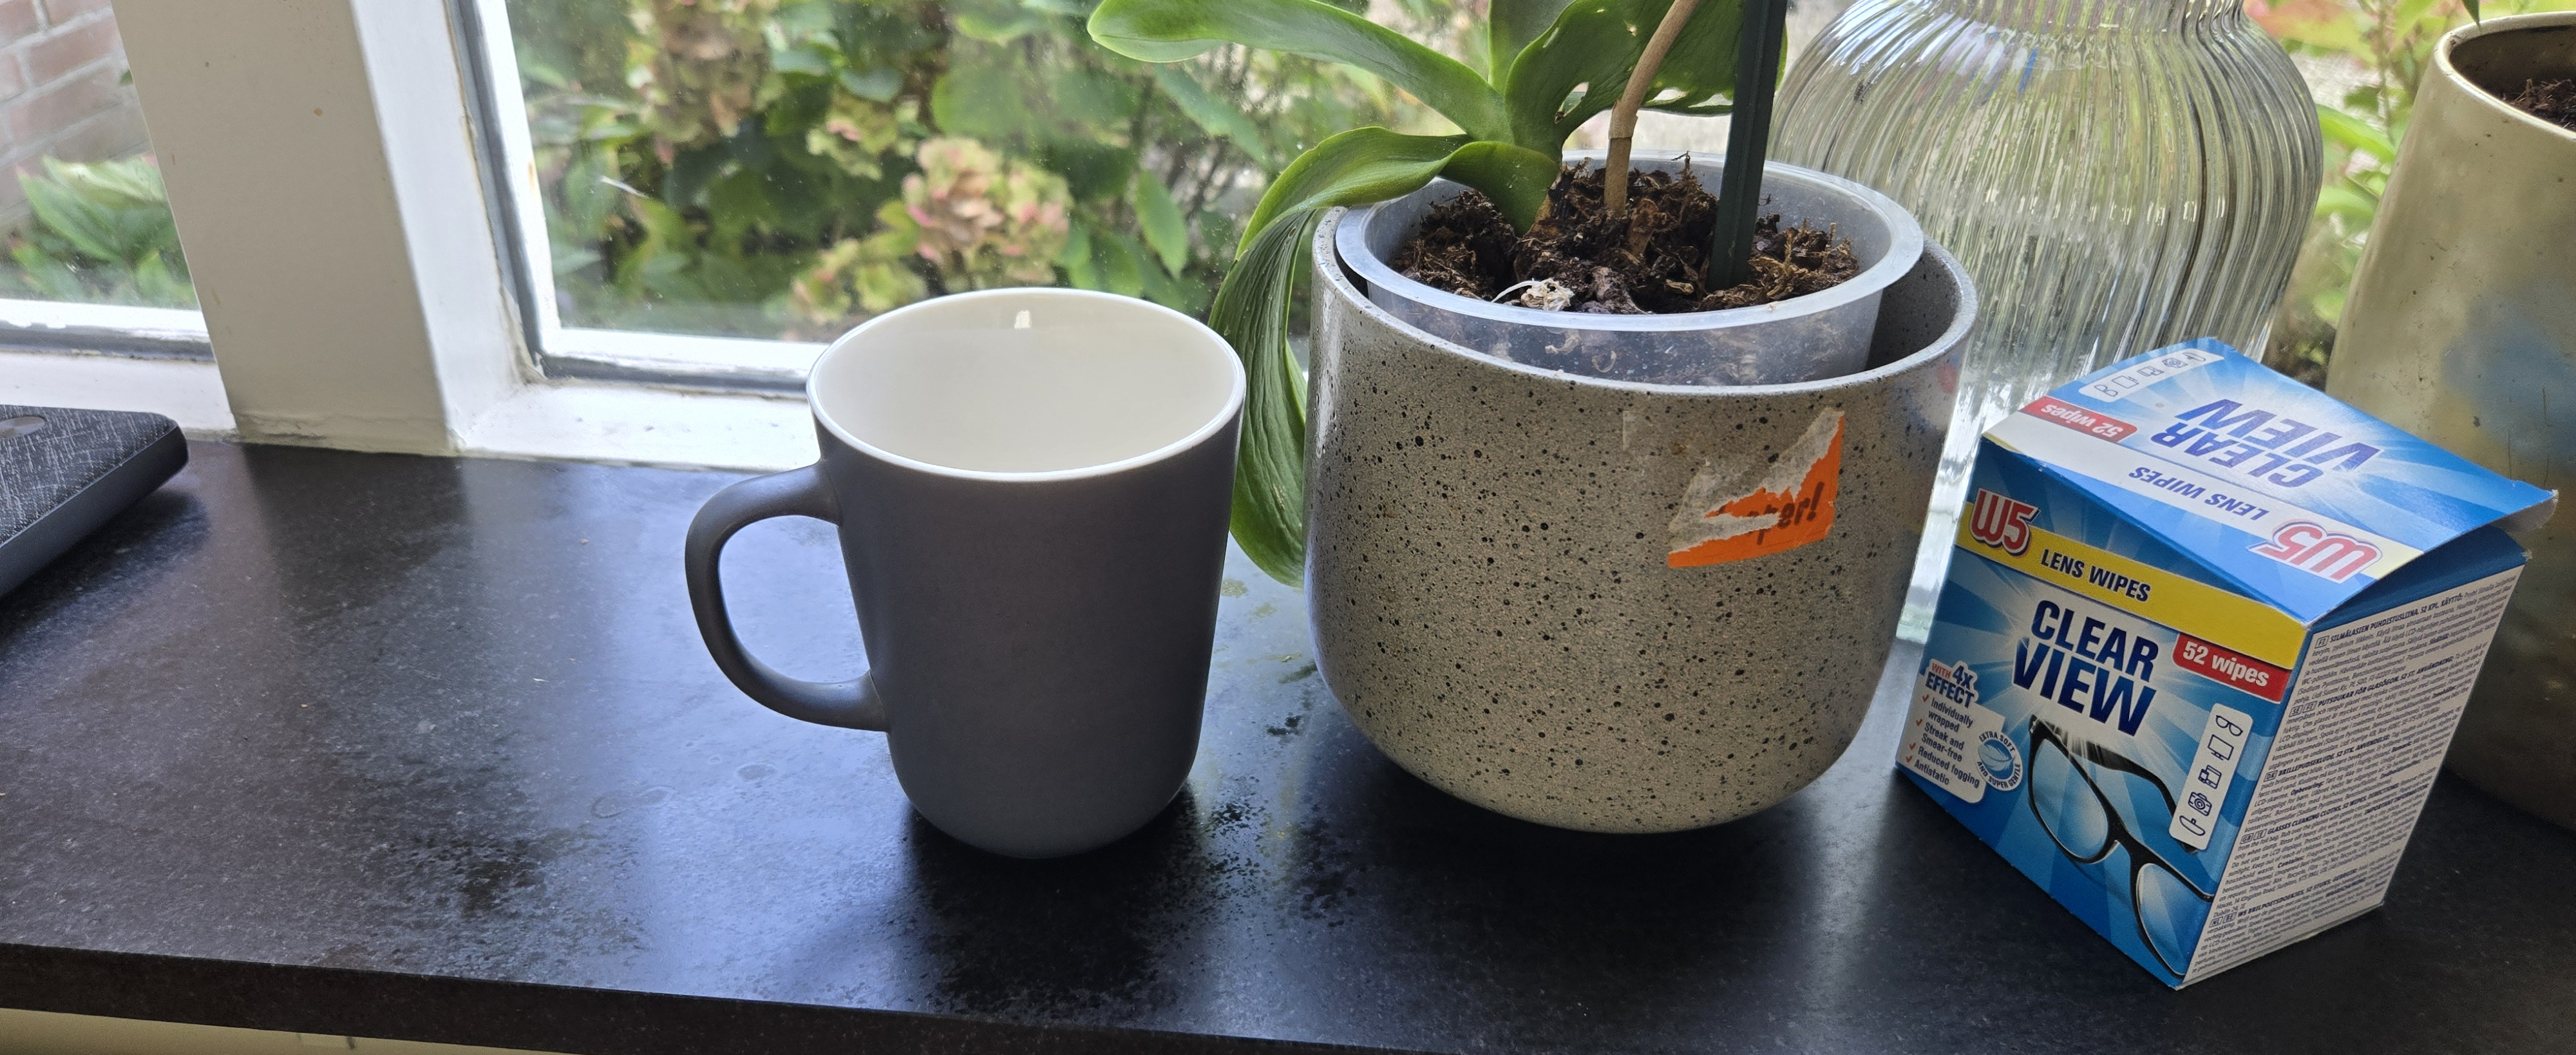mok: (641, 225, 1280, 894)
